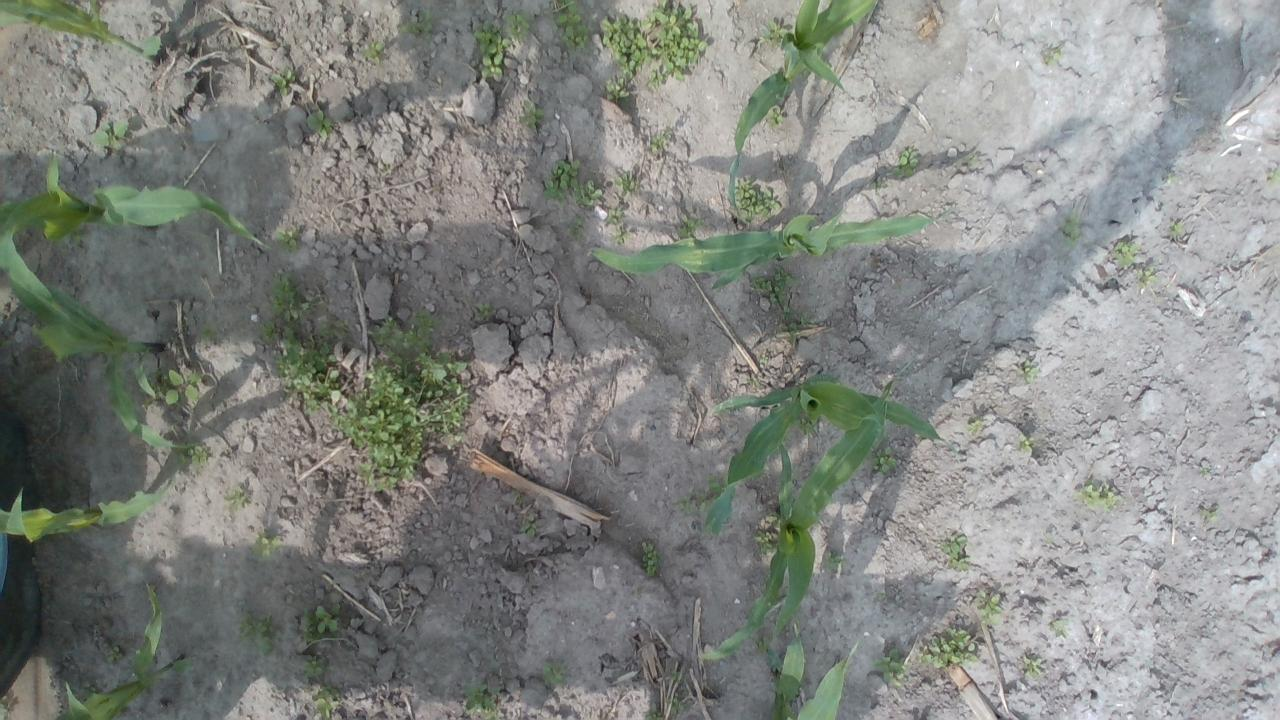Maize: (688, 357, 918, 664), (2, 194, 204, 452), (700, 373, 965, 540), (727, 2, 883, 231), (585, 208, 960, 290), (2, 148, 273, 257), (62, 582, 195, 720), (0, 476, 180, 545), (0, 0, 166, 68), (762, 622, 862, 720)
Weeds: (332, 304, 475, 495), (265, 271, 351, 413), (598, 0, 711, 101), (744, 265, 819, 349), (471, 7, 535, 80), (731, 176, 782, 224), (292, 600, 344, 647), (920, 626, 979, 666), (682, 474, 724, 530), (539, 156, 585, 203), (241, 612, 283, 662), (552, 0, 592, 50), (460, 676, 507, 718), (158, 367, 199, 409), (86, 119, 131, 155), (92, 626, 125, 666), (1074, 483, 1124, 509), (874, 647, 906, 687), (397, 8, 433, 42), (937, 532, 970, 569), (312, 684, 344, 720), (890, 143, 921, 179), (1108, 238, 1140, 271), (608, 206, 632, 249), (306, 105, 333, 142), (518, 97, 546, 132), (294, 654, 326, 684), (539, 658, 568, 690), (648, 126, 677, 158), (220, 480, 248, 512), (749, 526, 778, 556), (269, 66, 296, 96), (873, 446, 901, 474), (676, 216, 708, 240), (976, 591, 1004, 618), (252, 533, 280, 559), (639, 540, 658, 577), (764, 16, 791, 40), (272, 226, 301, 248), (1022, 654, 1044, 681), (819, 548, 843, 572), (1062, 216, 1081, 244), (584, 180, 603, 208), (764, 104, 786, 128), (1138, 268, 1160, 290), (1043, 46, 1063, 69), (472, 300, 492, 322), (364, 41, 383, 63), (1202, 505, 1220, 527), (195, 325, 214, 345), (1050, 618, 1068, 638), (570, 214, 585, 238), (620, 172, 636, 194), (518, 516, 536, 535), (1022, 361, 1038, 382), (966, 417, 984, 434), (1169, 221, 1186, 236), (1021, 436, 1034, 450), (1272, 169, 1280, 183)
